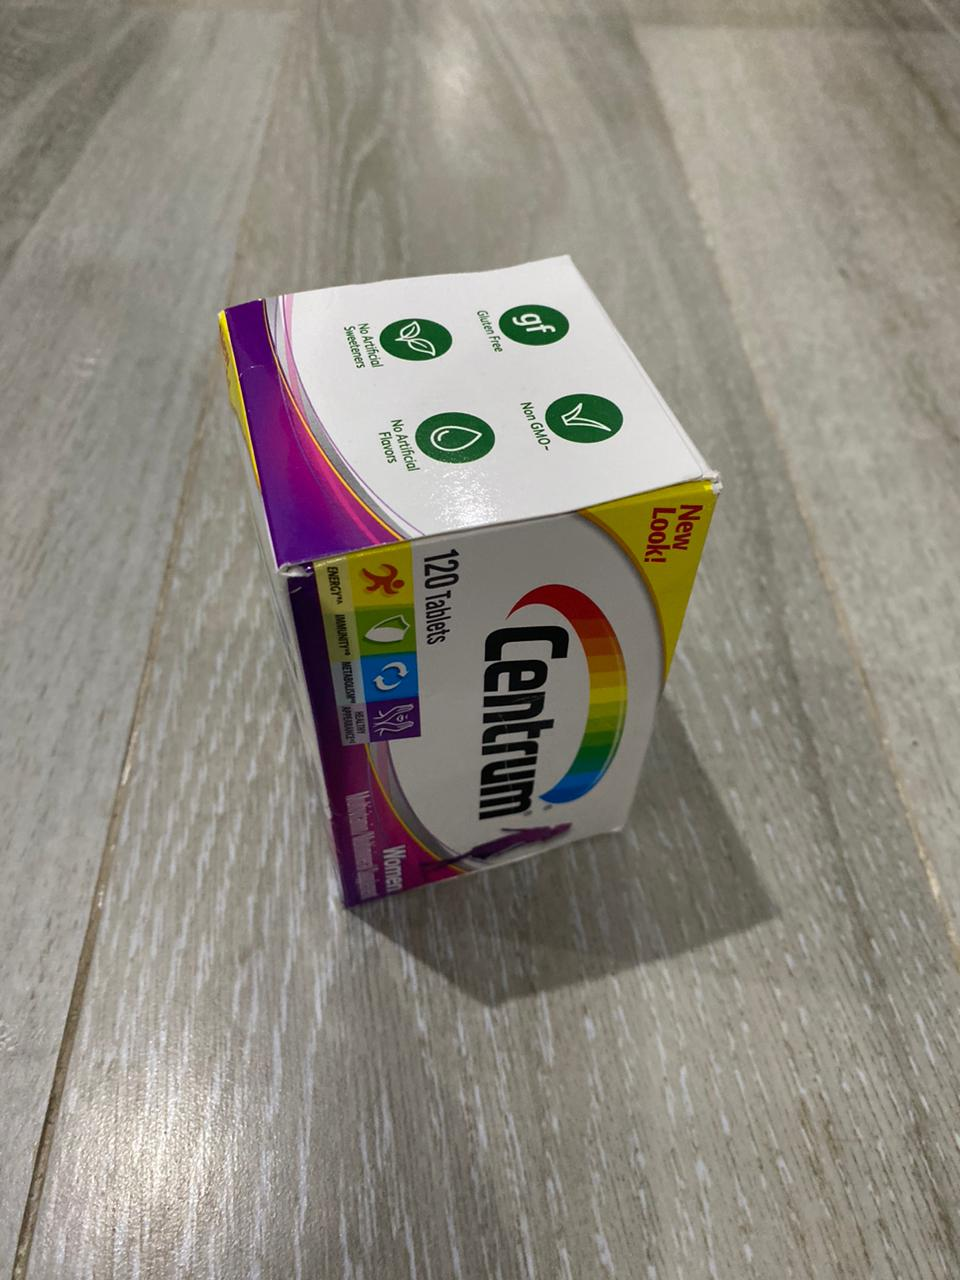Centrum: (212, 246, 727, 930)
